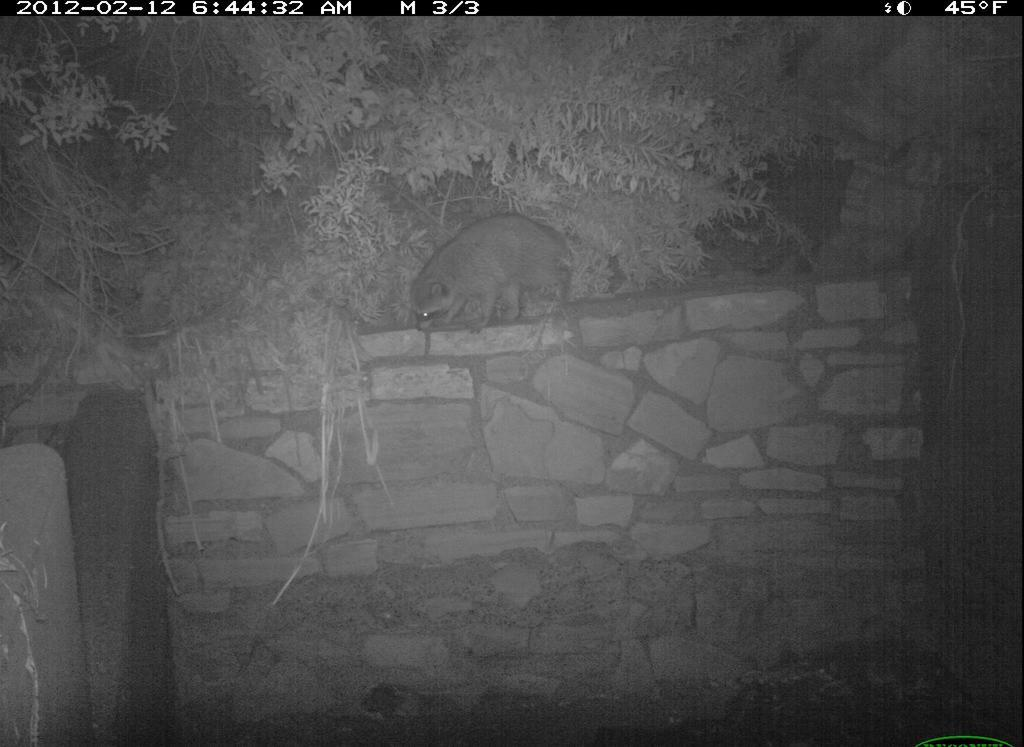raccoon: (399, 207, 587, 337)
